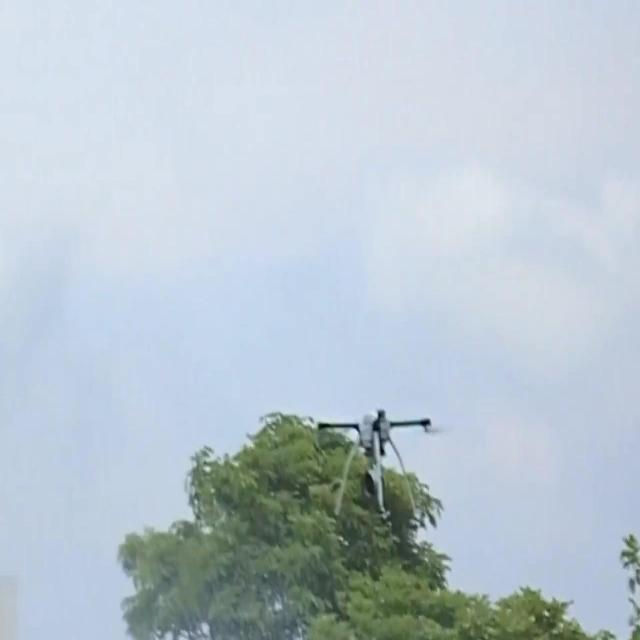drone: (313, 408, 441, 525)
